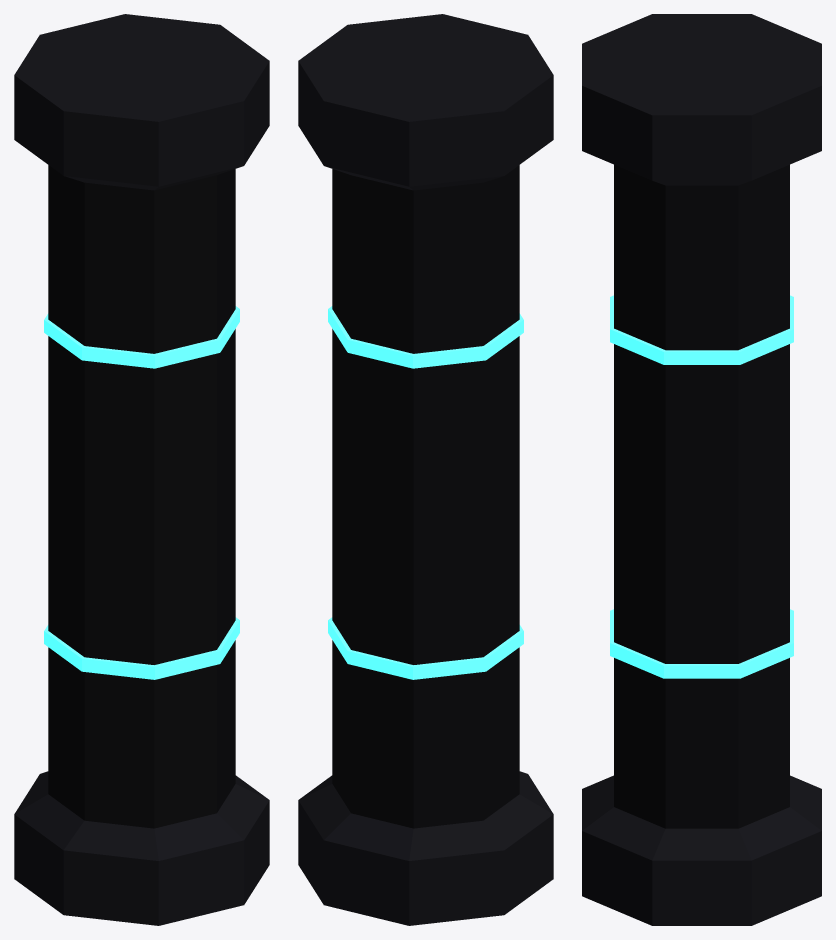
The model's file is SM_Pillar_Octagon.glb.
3 views of the same model, side by side, from view 1: azimuth 30°, elevation 25°; view 2: azimuth 150°, elevation 25°; view 3: azimuth 270°, elevation 25° (orthographic).
Parts seen in each view (by area): view 1: SM_Pillar_Octagon; view 2: SM_Pillar_Octagon; view 3: SM_Pillar_Octagon.
Part boxes in pixels (left/top/right/bottom): SM_Pillar_Octagon: left=14, top=14, right=269, bottom=925; SM_Pillar_Octagon: left=298, top=14, right=553, bottom=925; SM_Pillar_Octagon: left=582, top=14, right=821, bottom=925.
Size of the model in its own units: 0.8315 by 3.1 by 0.8315.
1 material, 1 textured.
